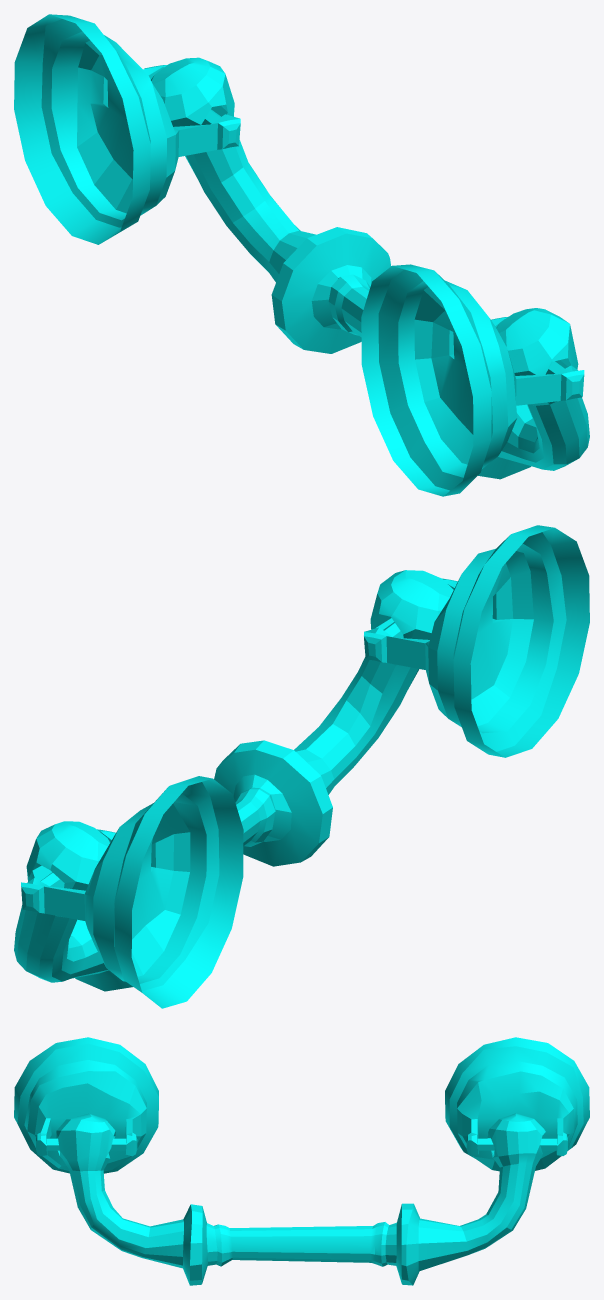
The model's file is poignee.fbx.
3 renders of one model, top to bottom at view 1: azimuth 30°, elevation 25°; view 2: azimuth 150°, elevation 25°; view 3: azimuth 270°, elevation 25°, orthographic. The views are drawn at different scales.
Parts seen in each view (by area): view 1: AccrochePoignee1, Poignee; view 2: AccrochePoignee1, Poignee; view 3: AccrochePoignee1, Poignee.
Part boxes in pixels (x1,y1,x2,y2): AccrochePoignee1: [14, 14, 584, 496]; Poignee: [151, 57, 589, 479]; AccrochePoignee1: [21, 525, 589, 1008]; Poignee: [14, 570, 453, 991]; AccrochePoignee1: [14, 1037, 589, 1173]; Poignee: [56, 1113, 545, 1285].
Size of the model in its own units: 7.31 by 9.16 by 24.92.
